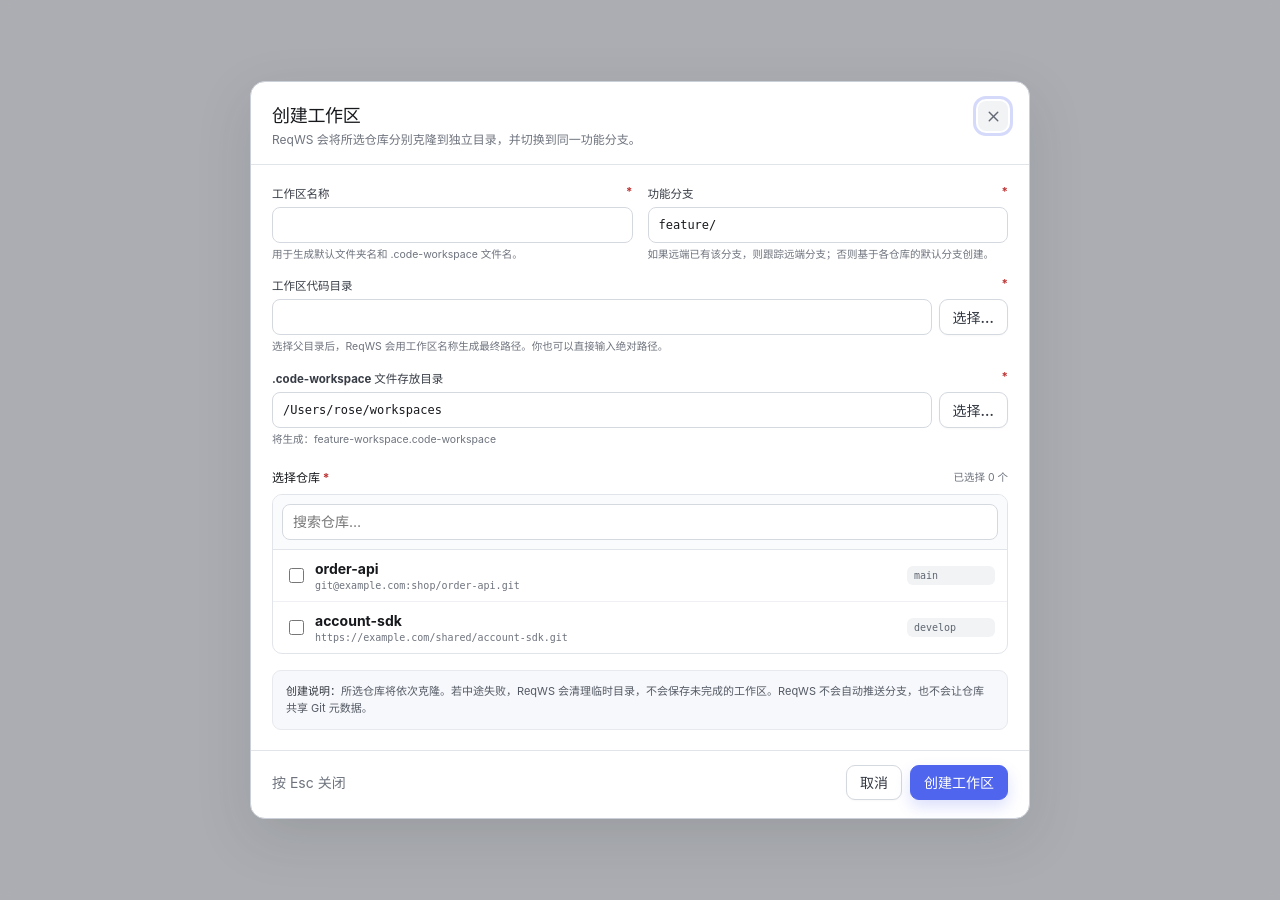
Test: Create Workspace form › remembers directory defaults and treats the root picker as a parent picker
Type "FEAT-900 Billing" into the field labelled "工作区名称 * 用于生成默认文件夹名和 .code-workspace 文件名。" at (452, 225), box [272,207,632,243]
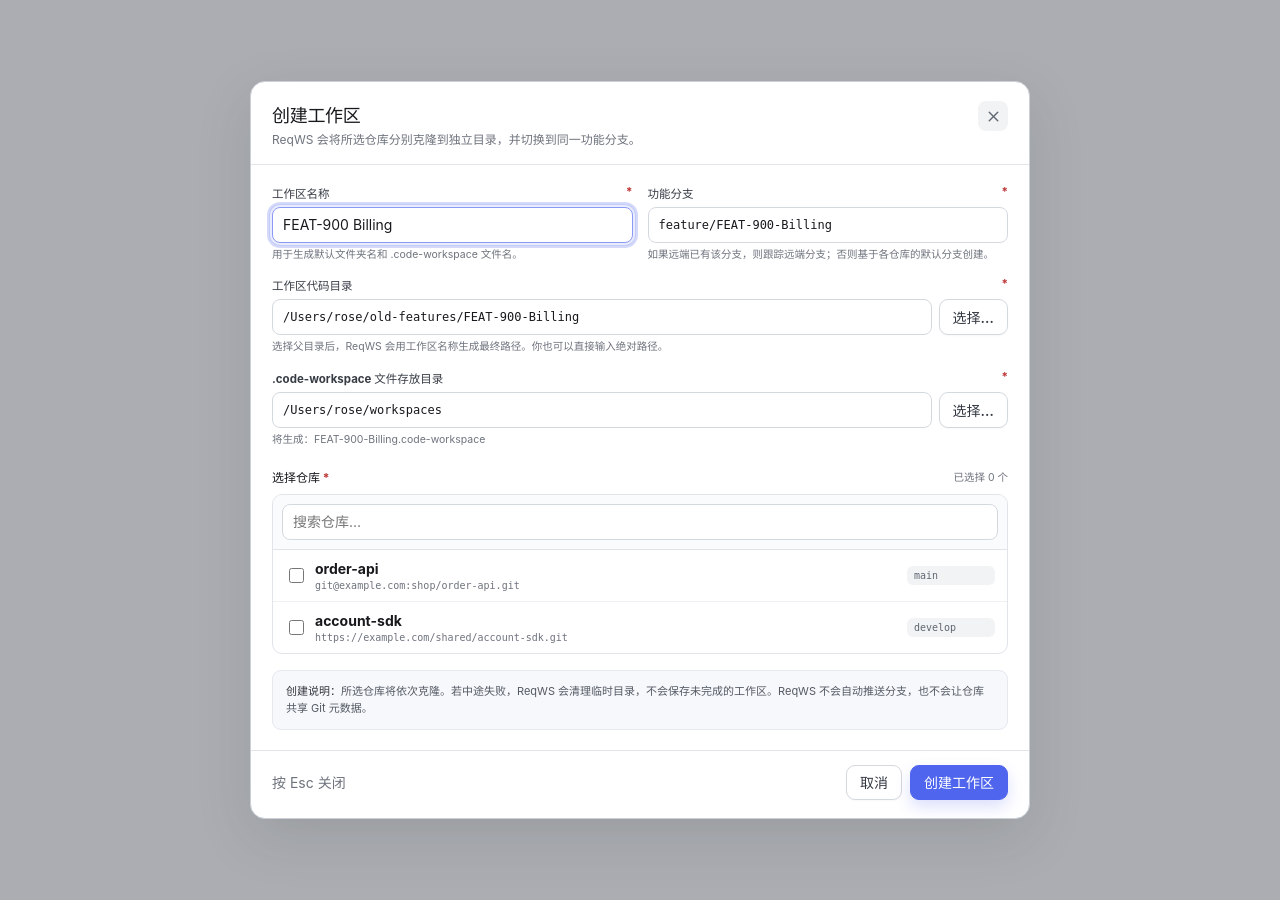
Expected: the field labelled ".code-workspace 文件存放目录" holds "/Users/rose/workspaces", [272,392,932,428]
Expected: the field labelled "工作区代码目录 * 选择… 选择父目录后，ReqWS 会用工作区名称生成最终路径。你也可以直接输入绝对路径。" holds "/Users/rose/old-features/FEAT-900-Billing", [272,299,932,335]
Click the 1st button "选择…" at (973, 317), box [939,299,1008,335]
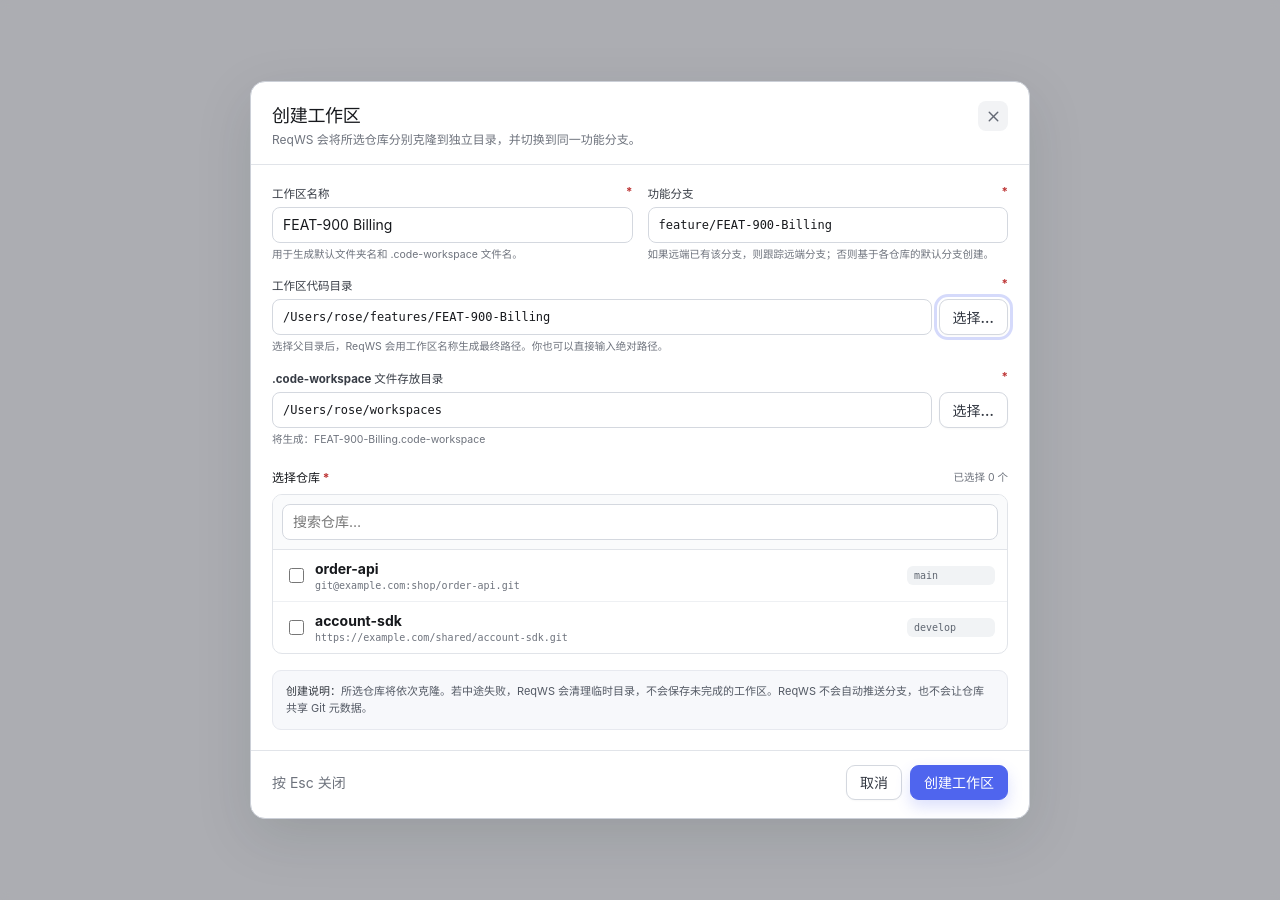
Expected: the field labelled "工作区代码目录 * 选择… 选择父目录后，ReqWS 会用工作区名称生成最终路径。你也可以直接输入绝对路径。" holds "/Users/rose/features/FEAT-900-Billing", [272,299,932,335]
